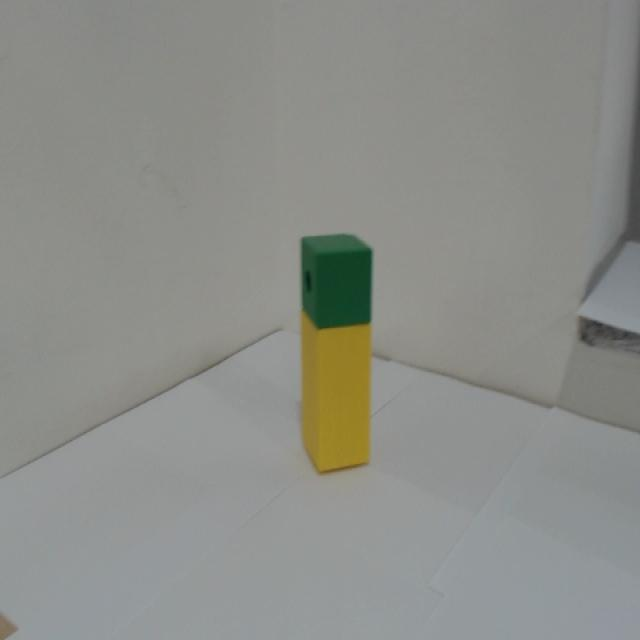cube: (300, 229, 373, 330)
